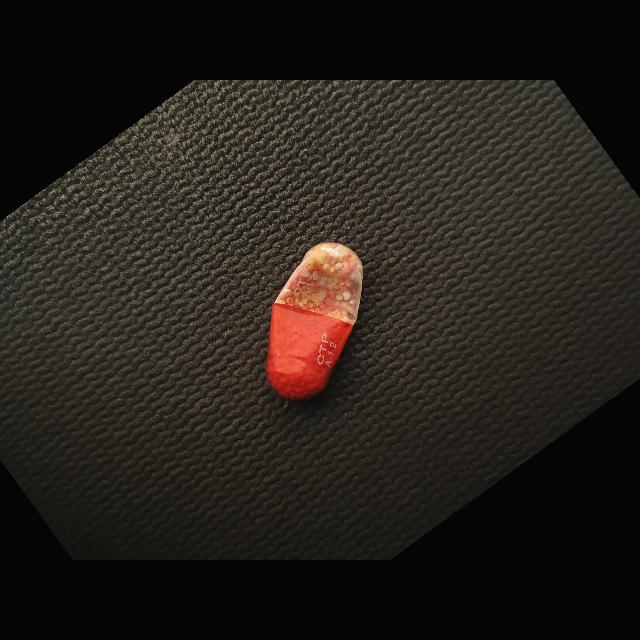Defective Capsule: (266, 242, 363, 400)
